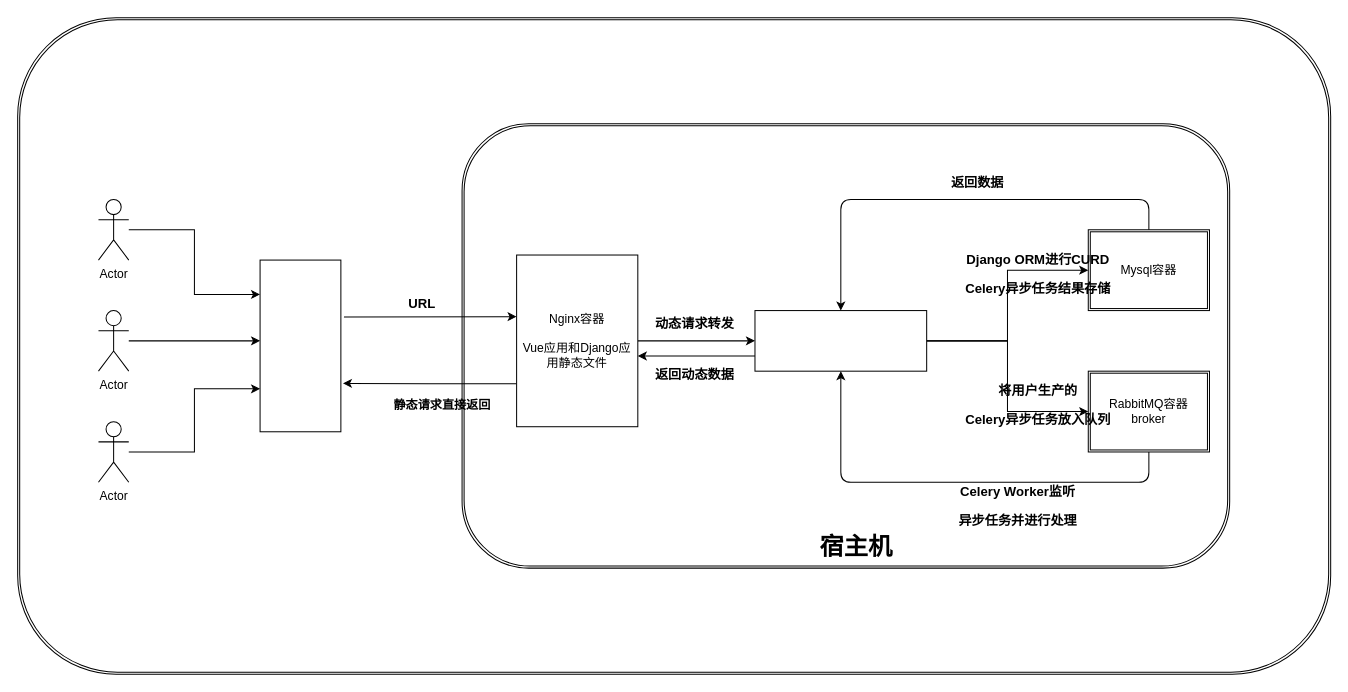
The diagram is 1348 pixels wide and 692 high, and some of its shapes have lost their labels. Here are the shapes that lost their labels. From the top down, the centre of each, then its label:
At point 300,345: "browser".
At point 840,340: "Django+Gunicorn+Celery容器".
